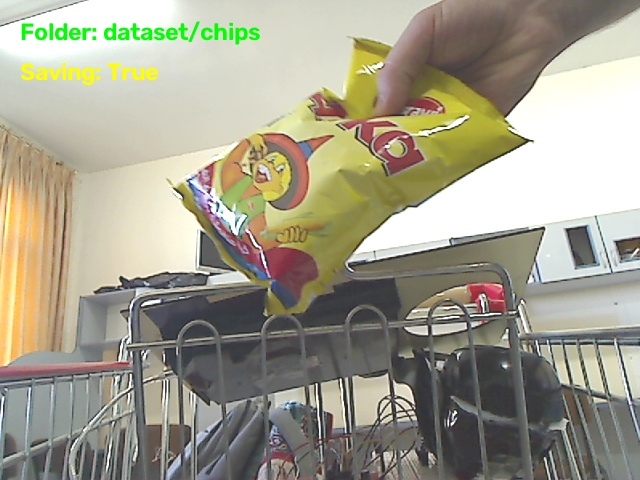chips: (174, 39, 526, 313)
